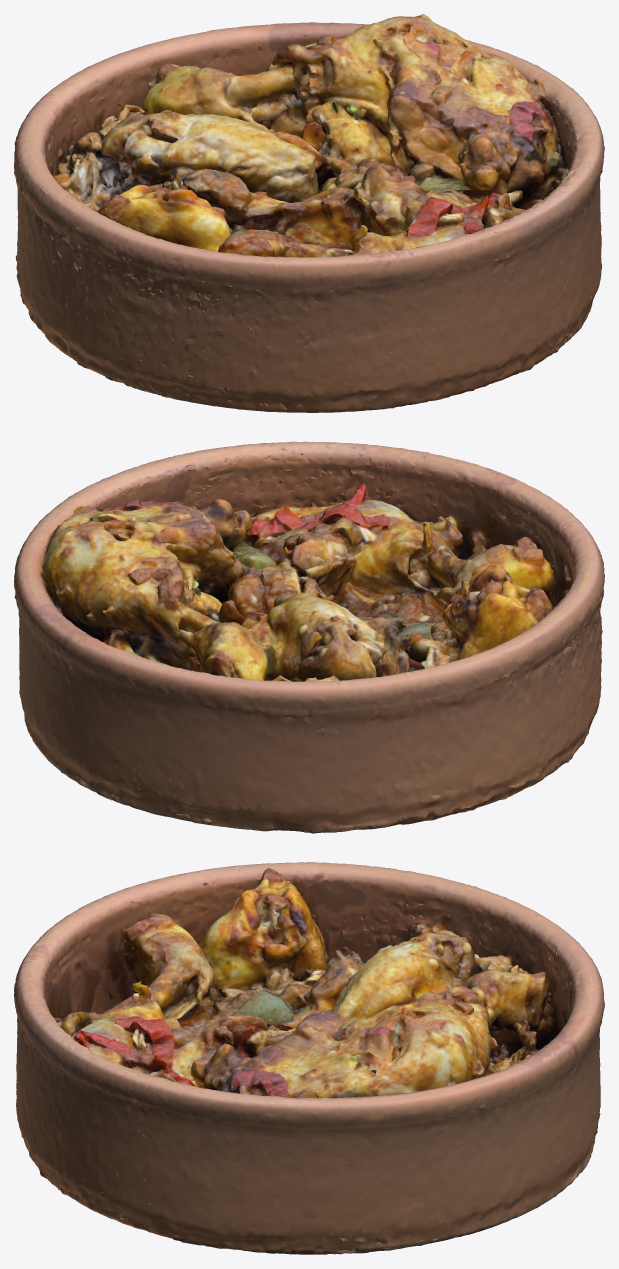
File: wings.glb
3 views of the same model, one above another, from view 1: azimuth 30°, elevation 25°; view 2: azimuth 150°, elevation 25°; view 3: azimuth 270°, elevation 25° (orthographic).
Visible parts, largest first — view 1: Object_2, Object_3; view 2: Object_2, Object_3; view 3: Object_2, Object_3.
Part boxes in pixels (box(x1,y1,x2,y2)): Object_2: box(14, 14, 582, 412); Object_3: box(17, 16, 604, 412); Object_2: box(14, 456, 604, 833); Object_3: box(14, 441, 604, 827); Object_2: box(14, 862, 604, 1222); Object_3: box(14, 868, 603, 1254).
Bounding box in the file's own units: 0.6206 × 0.2245 × 0.622.
Materials: 1 (1 with a texture image).
